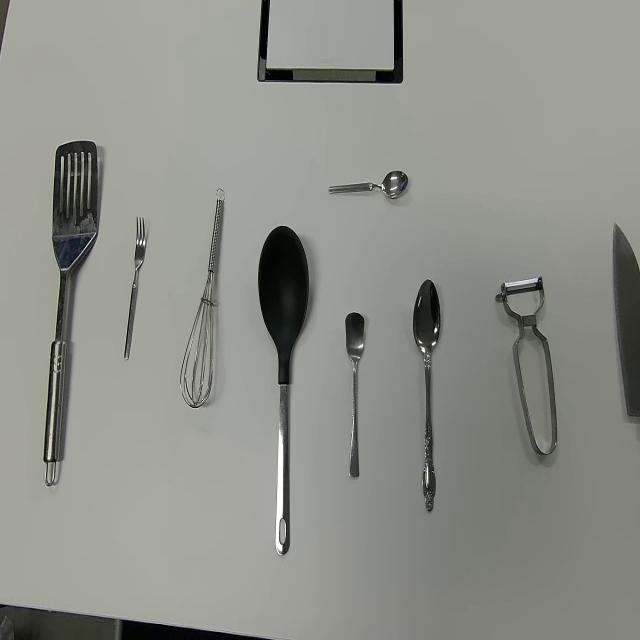Desert-Spoon: (412, 278, 441, 516)
Dinner-Fork: (123, 215, 146, 362)
Kitchen-Knife: (612, 220, 640, 420)
Peeler: (494, 275, 558, 456)
Serving-Spoon: (42, 138, 99, 489), (257, 222, 310, 556)
Tea-Spoon: (344, 310, 365, 479), (328, 165, 409, 198)
Whisk: (179, 187, 225, 410)
